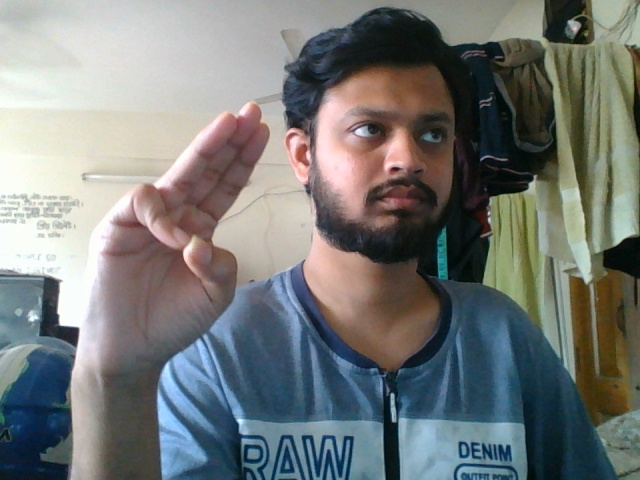ma: (72, 94, 278, 419)
